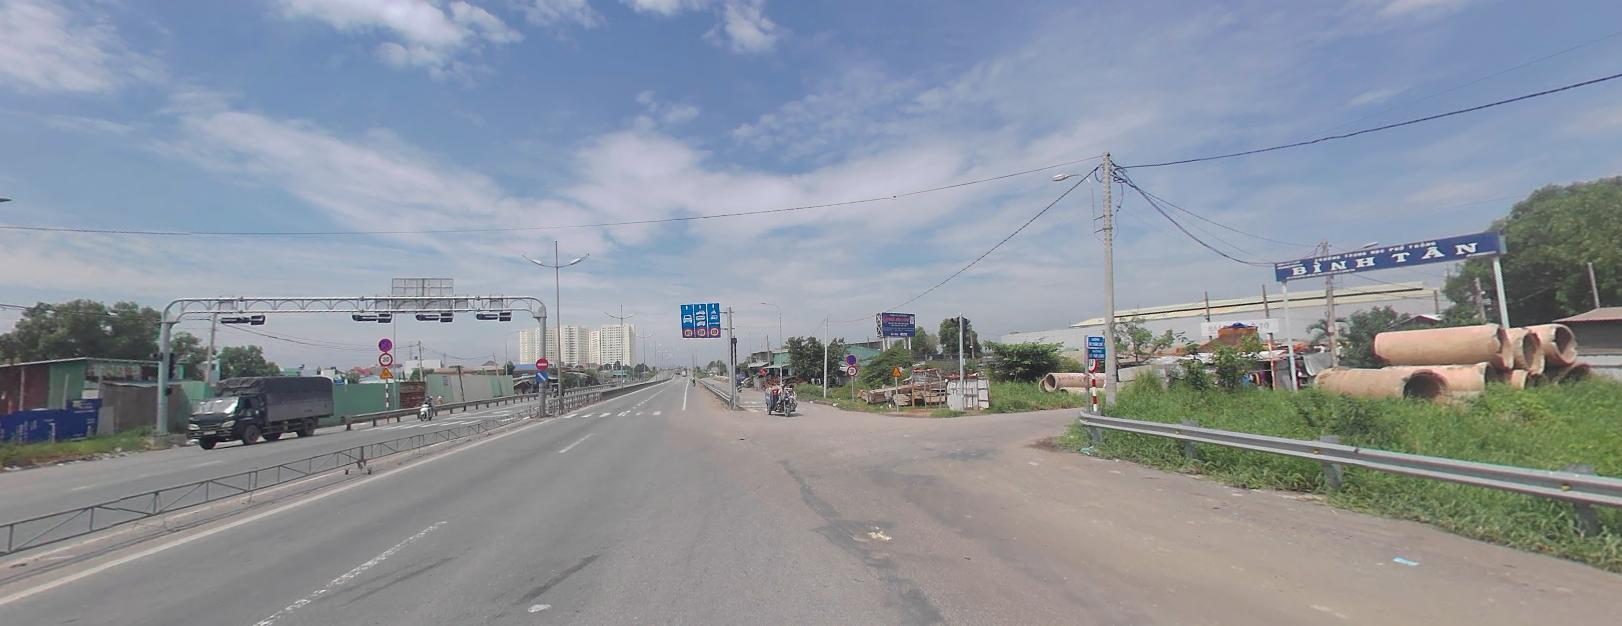Cam con lai: (846, 364, 857, 375)
Cam dung va do: (378, 336, 392, 349), (846, 352, 857, 362)
Cam nguoc chieu: (535, 356, 547, 368)
Gioi han toc do: (1084, 350, 1097, 370), (378, 351, 392, 365), (709, 324, 719, 334), (696, 325, 705, 335), (684, 326, 692, 335)
Hieu lenh: (534, 369, 547, 381)
Nguy hiem: (379, 366, 393, 376), (891, 364, 900, 374)
